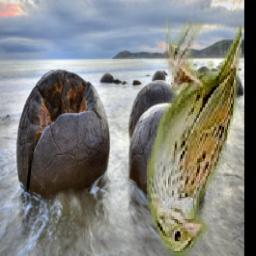Sparrow: (147, 12, 242, 256)
